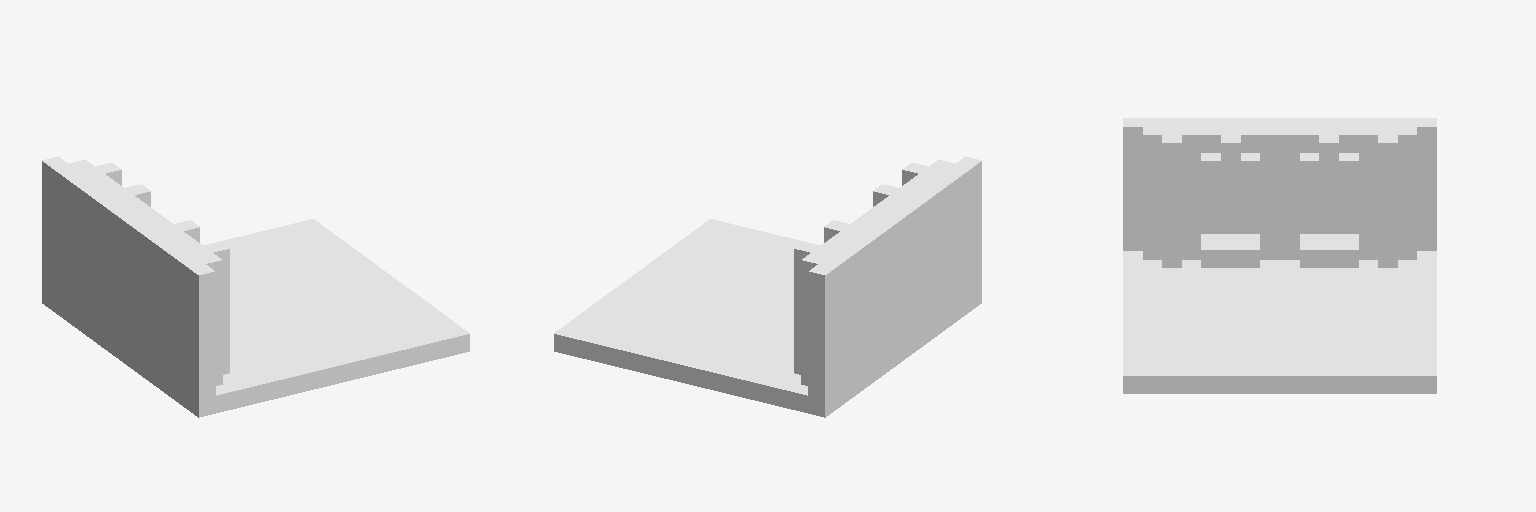
The model's file is towar-8.obj.
The picture shows the model from 3 angles: view 1: azimuth 30°, elevation 25°; view 2: azimuth 150°, elevation 25°; view 3: azimuth 270°, elevation 25°; orthographic projection.
Parts seen in each view (by area): view 1: towar-8; view 2: towar-8; view 3: towar-8.
Boxes of the visible parts, x1,y1,x2,y2 form: towar-8: [42, 156, 469, 417]; towar-8: [554, 156, 981, 417]; towar-8: [1123, 118, 1436, 393].
Size of the model in its own units: 16 by 8 by 16.